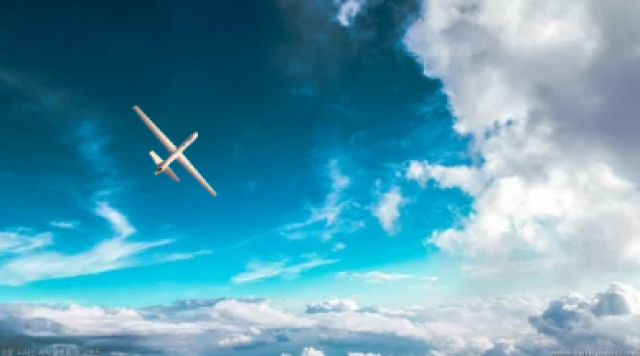military drone: (132, 104, 217, 197)
